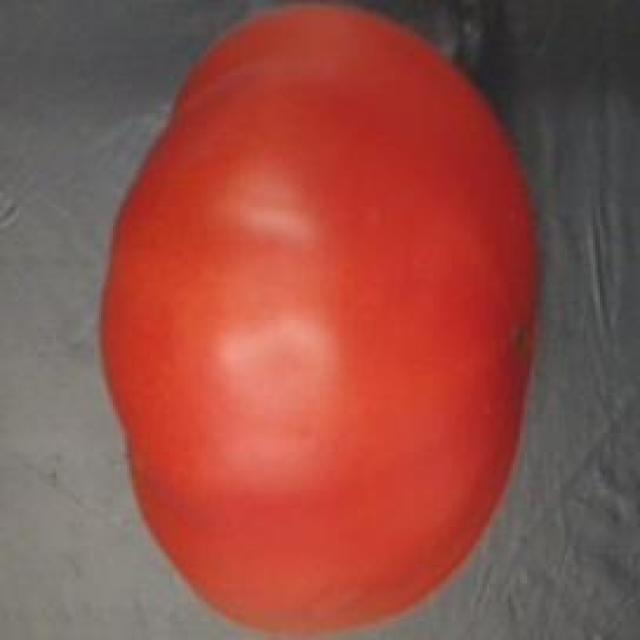ripe tomato: (85, 0, 558, 640)
